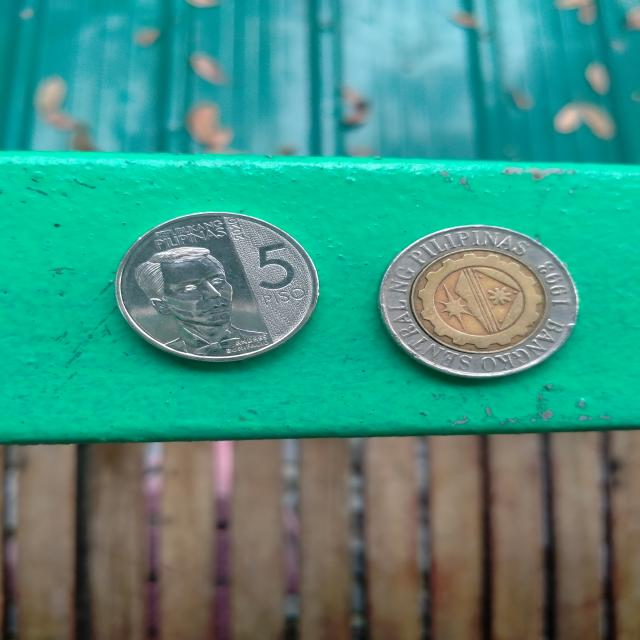10_Old_Back: (385, 226, 576, 380)
5_New_Front: (248, 242, 320, 307)
